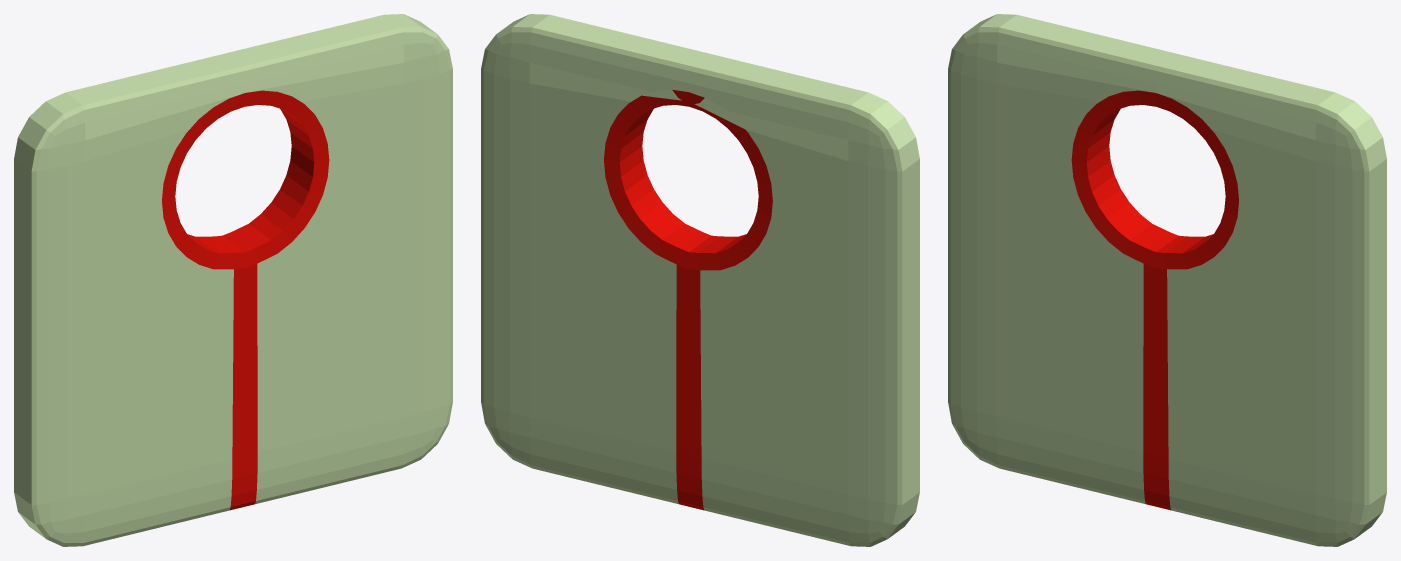
File: UpHole.fbx
3 renders of one model, left to right at view 1: azimuth 30°, elevation 25°; view 2: azimuth 150°, elevation 25°; view 3: azimuth 330°, elevation 25°, orthographic.
Parts seen in each view (by area): view 1: Cube.002; view 2: Cube.002; view 3: Cube.002.
Part boxes in pixels (left/top/right/bottom): Cube.002: left=14, top=14, right=452, bottom=546; Cube.002: left=481, top=14, right=919, bottom=546; Cube.002: left=948, top=14, right=1386, bottom=546.
Bounding box in the file's own units: 1272 × 1272 × 127.
